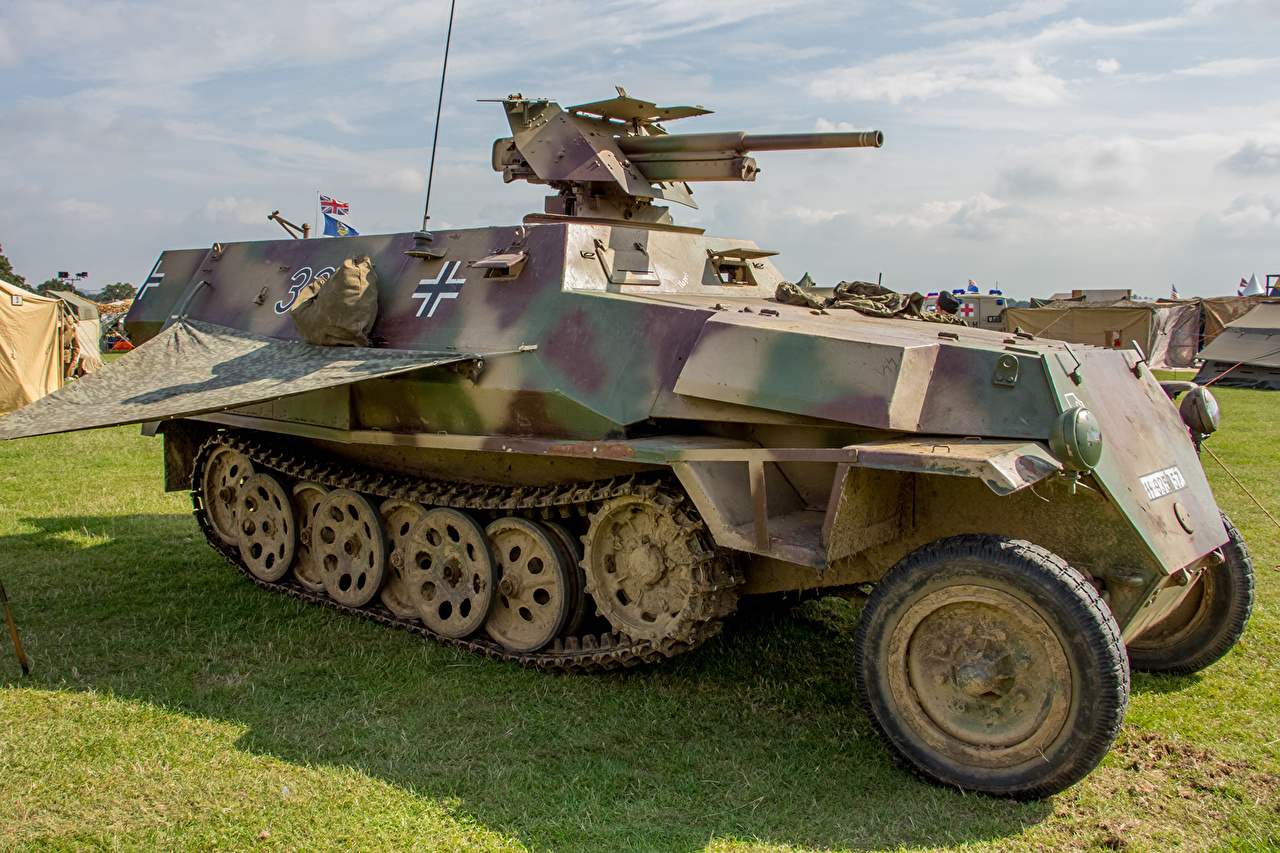btr: (94, 106, 1254, 771)
